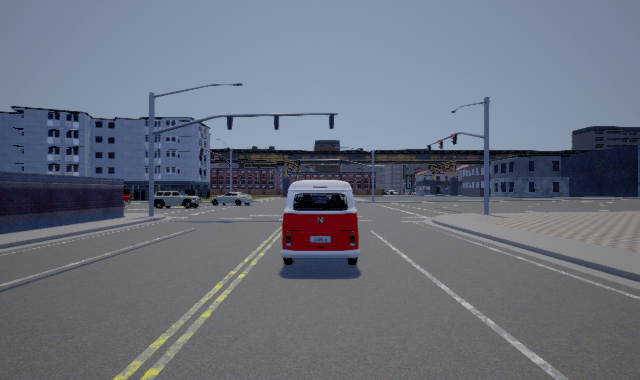traffic_light: (451, 134, 457, 145), (438, 140, 443, 149), (211, 152, 215, 159), (219, 155, 223, 161)
vehicle: (280, 180, 360, 266), (154, 191, 202, 209), (211, 192, 253, 206)
